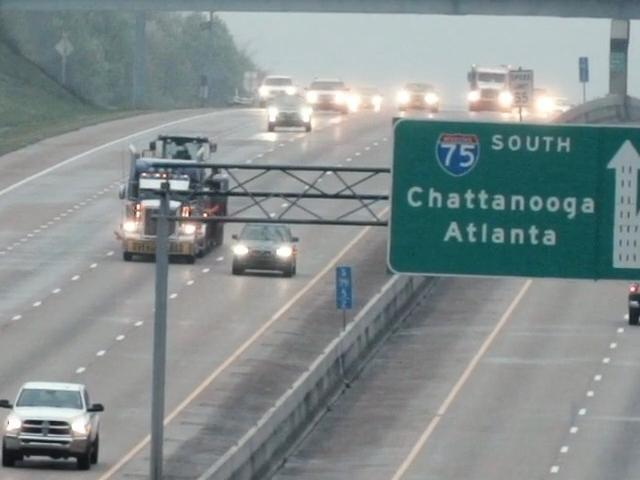car: (0, 381, 106, 466), (232, 213, 298, 280), (263, 92, 310, 134), (626, 264, 640, 326)
truck: (117, 132, 220, 265)
